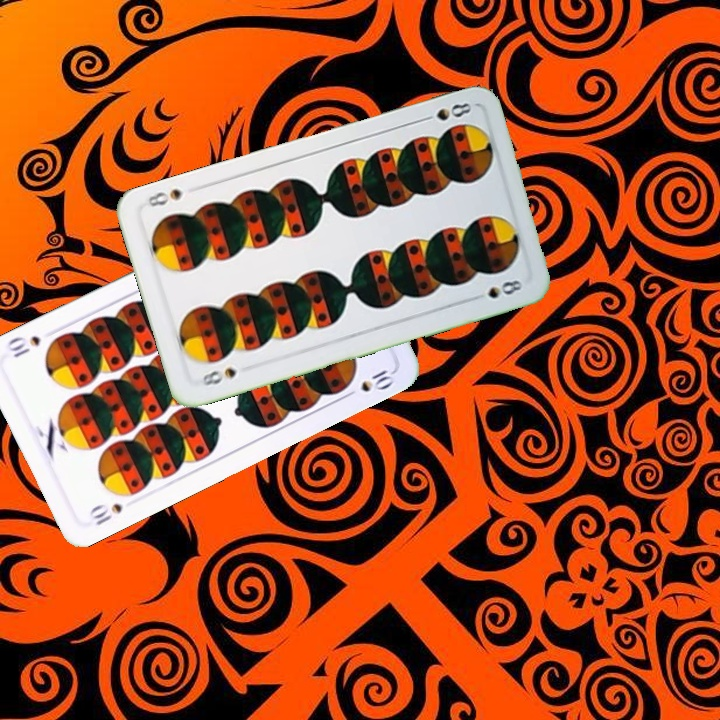S10: (85, 499, 125, 528)
S8: (416, 98, 474, 125), (198, 363, 240, 388)
